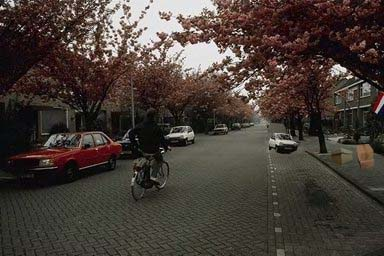copymove: (271, 130, 298, 154)
removal: (270, 119, 292, 144)
spliced: (330, 144, 382, 173)
